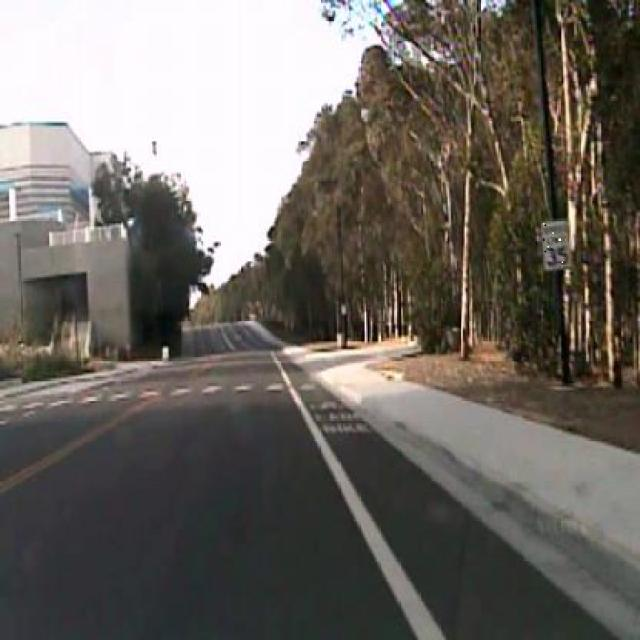speedLimit35: (540, 218, 571, 271)
